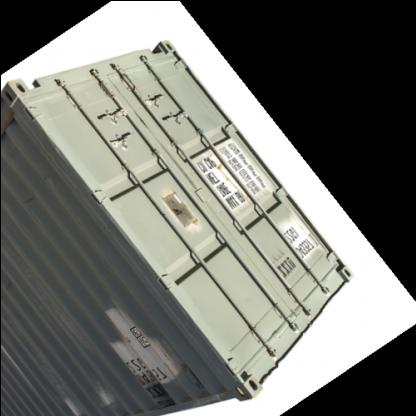Damage: (0, 99, 16, 137)
